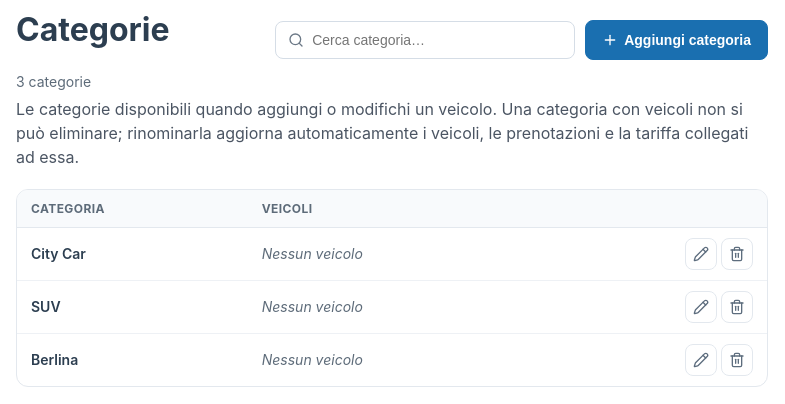
Test: la ricerca filtra le categorie e dice quando non trova nulla
Expected: the text "City Car" is shown, left=17, top=227, right=248, bottom=280
Type "su" into the search field labelled "Cerca categoria" at (437, 40), box left=312, top=22, right=562, bottom=58
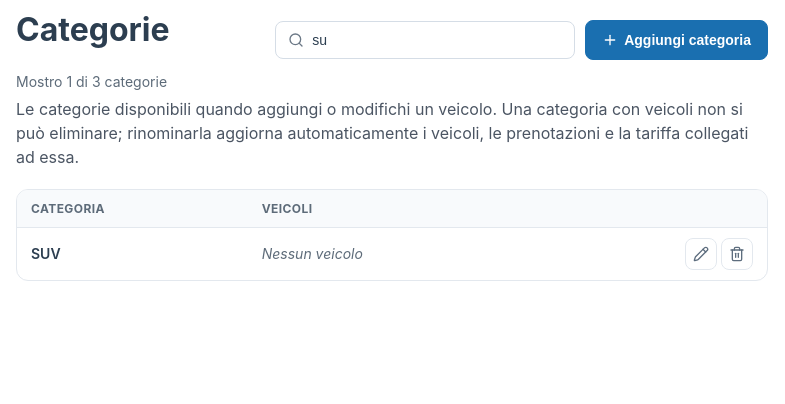
Expected: the text "SUV" is shown, left=17, top=227, right=248, bottom=280
Now the text "Berlina" is gone
Replace the text in the search field named "Cerca categoria" with "xyz" at (437, 40), box left=312, top=22, right=562, bottom=58
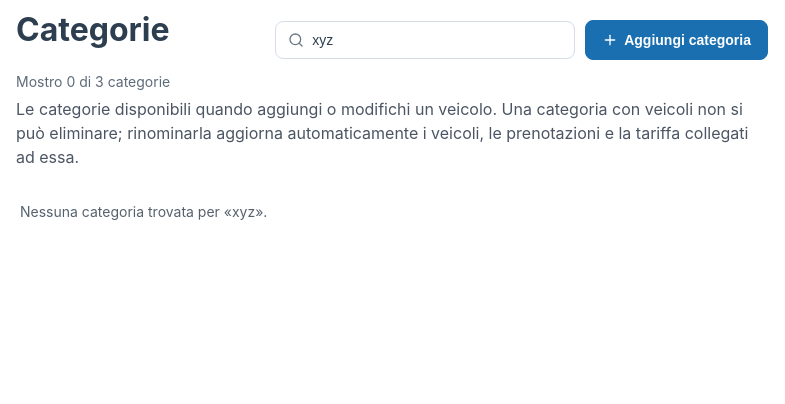
Now the text "Nessuna categoria trovata per «xyz»." is shown, box left=20, top=203, right=267, bottom=220
